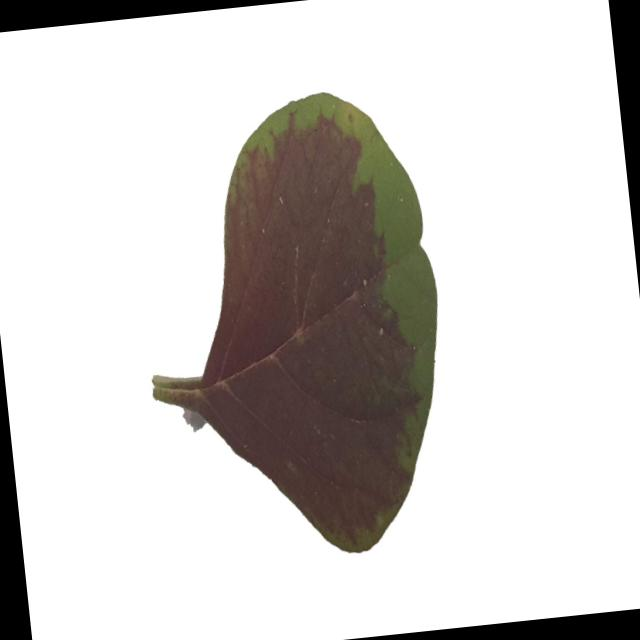Medicinal-Arive Dantu: (122, 76, 464, 572)
